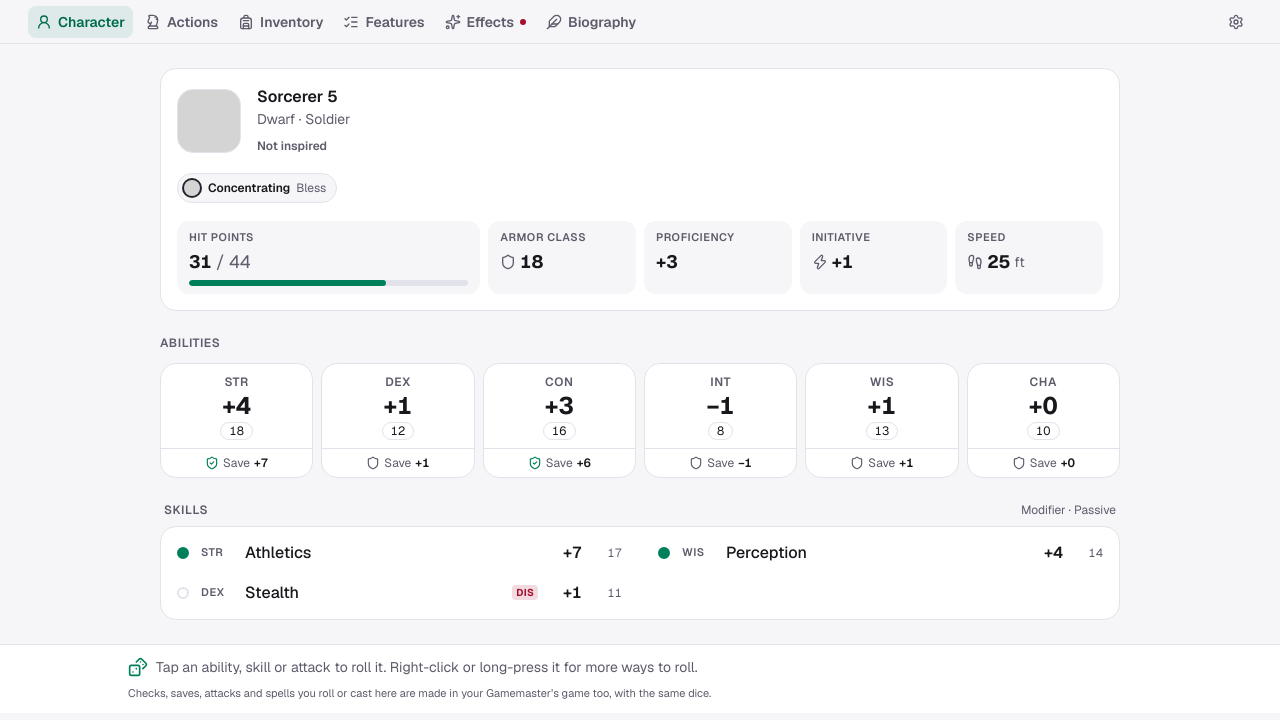
ending concentration, from module 0.29.0 › gives a favorite of the effect the same End
Click the tab "Effects" at (485, 22), box [436,6,534,38]
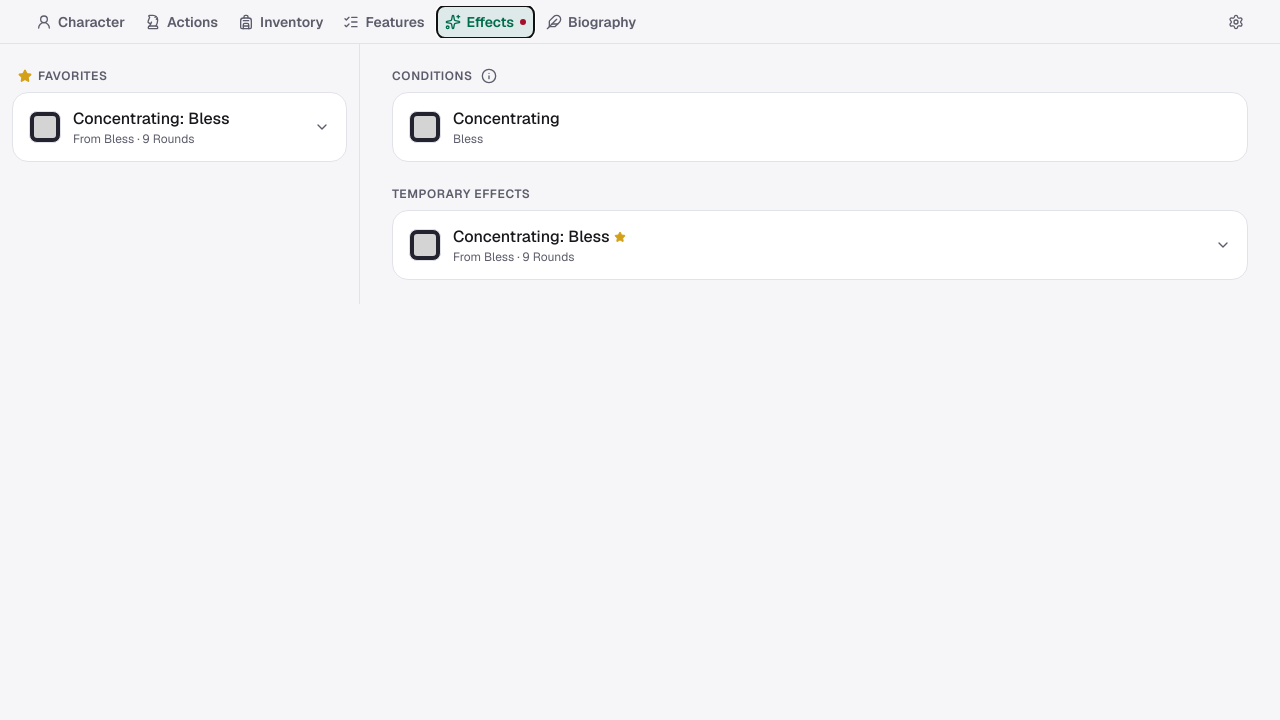
Click the 1st text "Concentrating: Bless" at (151, 119), box [73,107,230,131]
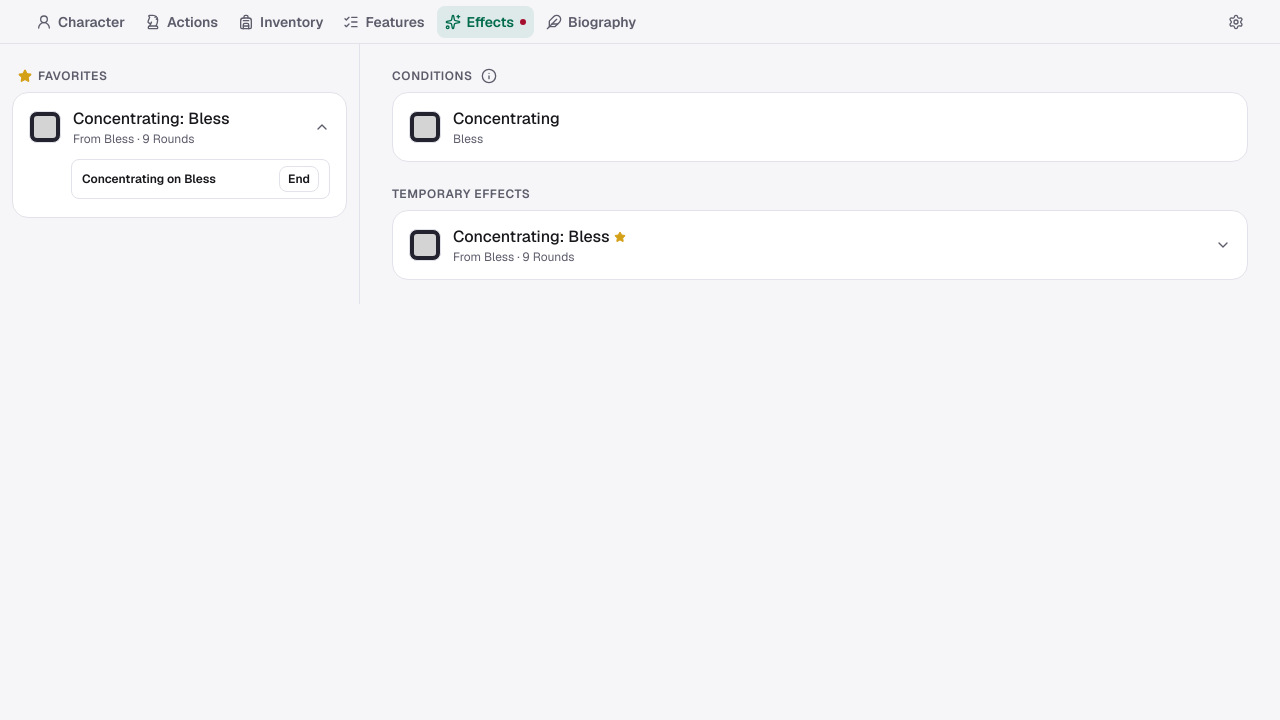
Check: the button with aria-label "End concentration on Bless" is shown, box [279,166,319,192]
